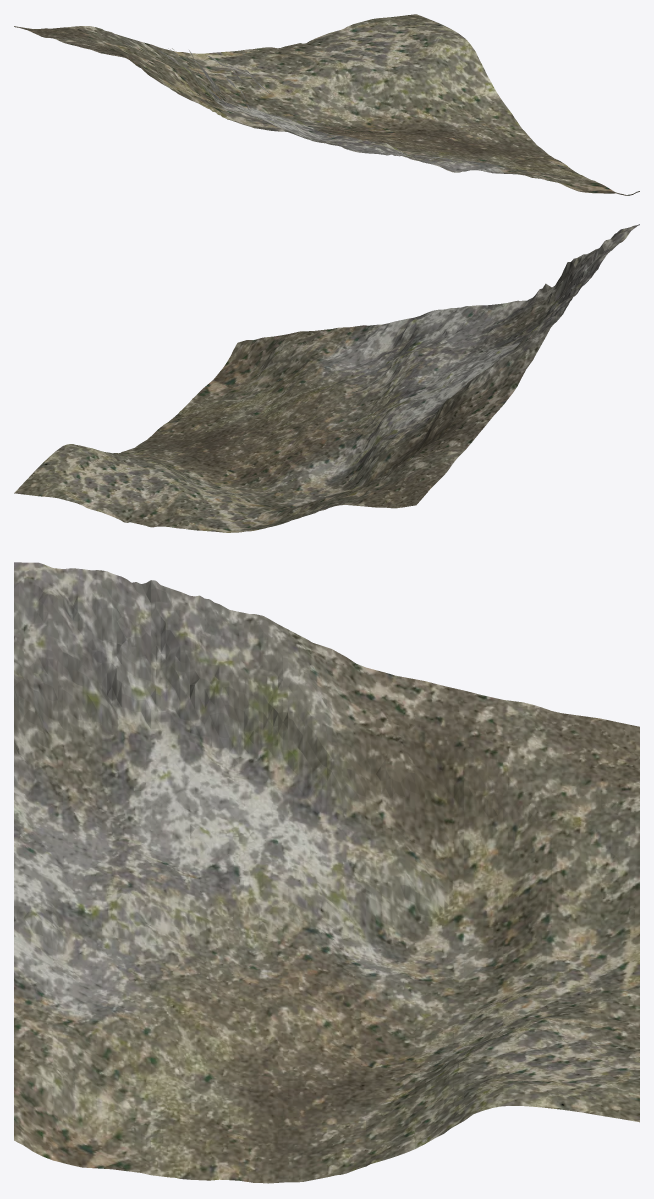
The picture shows the model from 3 angles, top to bottom: view 1: azimuth 30°, elevation 25°; view 2: azimuth 150°, elevation 25°; view 3: azimuth 270°, elevation 25°; orthographic projection. The views are drawn at different scales.
Bounding box in the file's own units: 500 × 295 × 481.
1 material, 1 textured.
